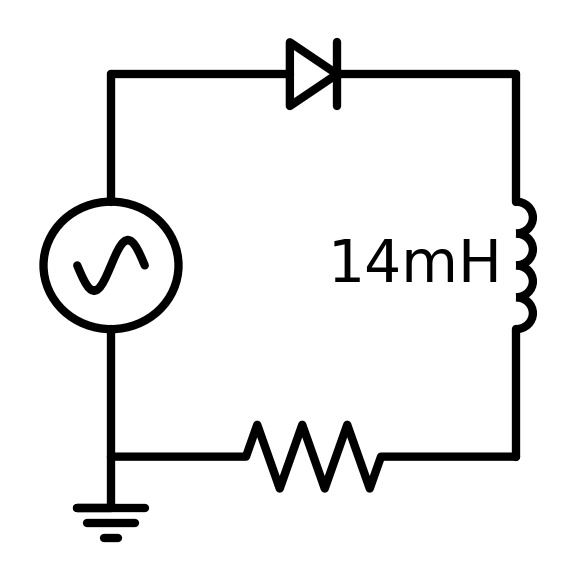diode: (266, 30, 356, 125)
ground: (56, 484, 161, 554)
inductor: (502, 184, 546, 344)
resistor: (231, 405, 396, 504)
sourceac: (35, 192, 185, 346)
